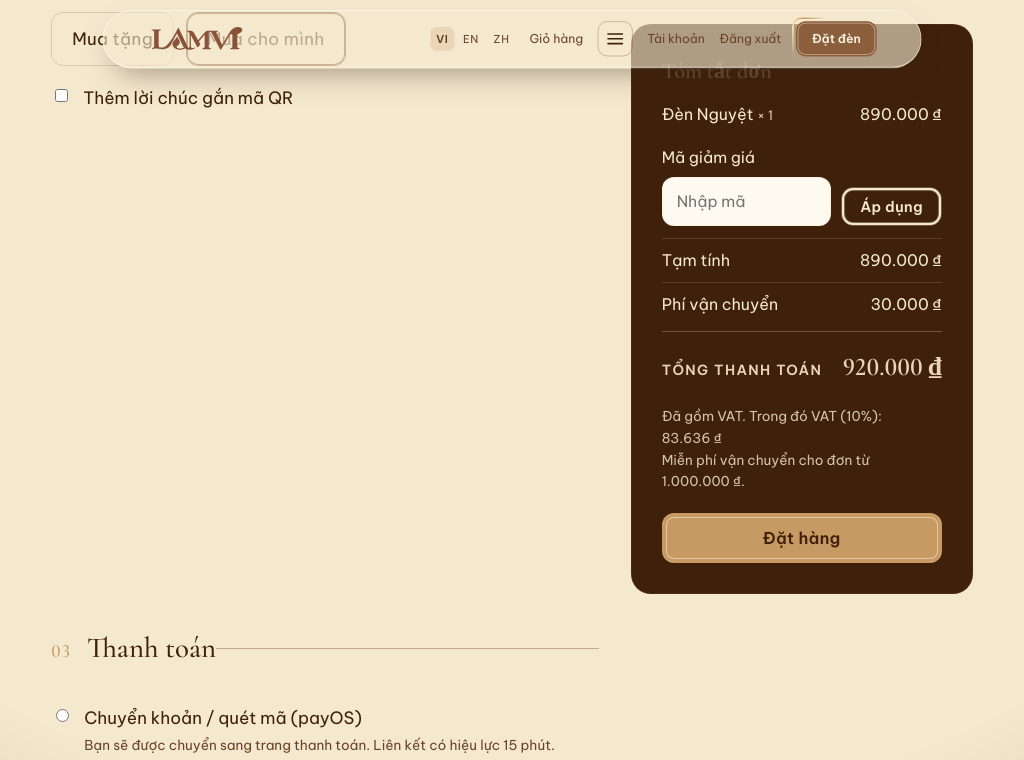
Lời chúc chữ trong checkout › không bật lời chúc (dù đã gõ chữ rồi bỏ tick) → KHÔNG gọi PUT message
The image size is (1024, 760).
Earlier steps of the test are not shown.
(page scrolled)
Click the button "Đặt hàng" at (802, 538), box [662, 513, 942, 563]
(page scrolled)
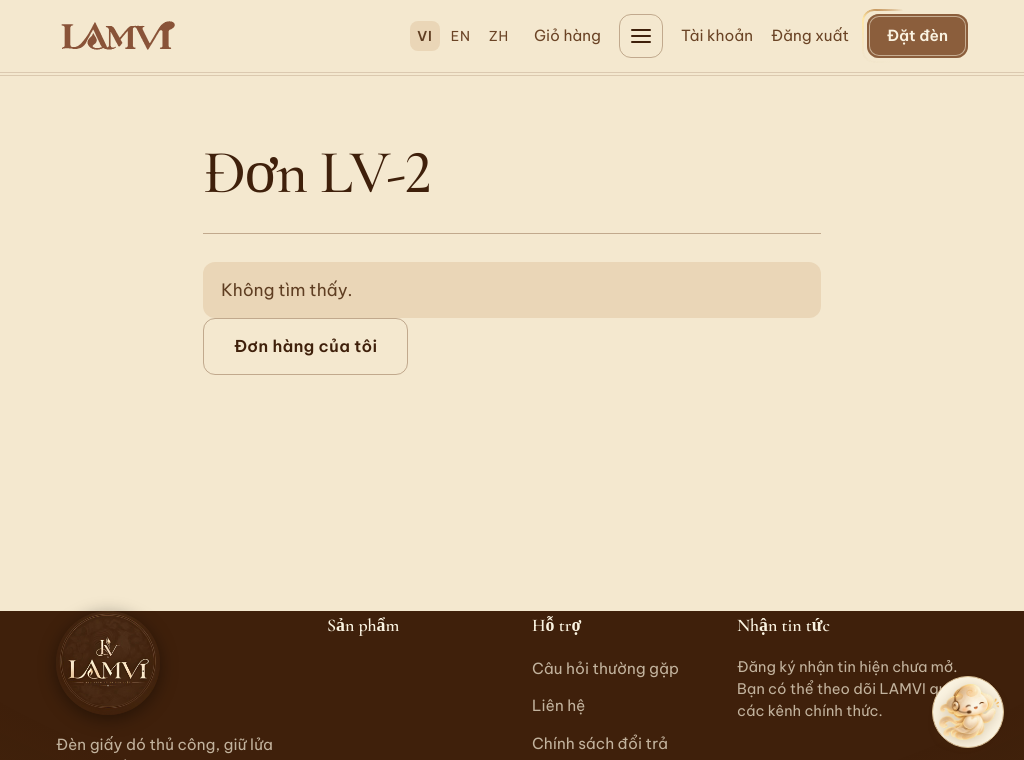
Expected: the button "Đặt hàng" is gone
